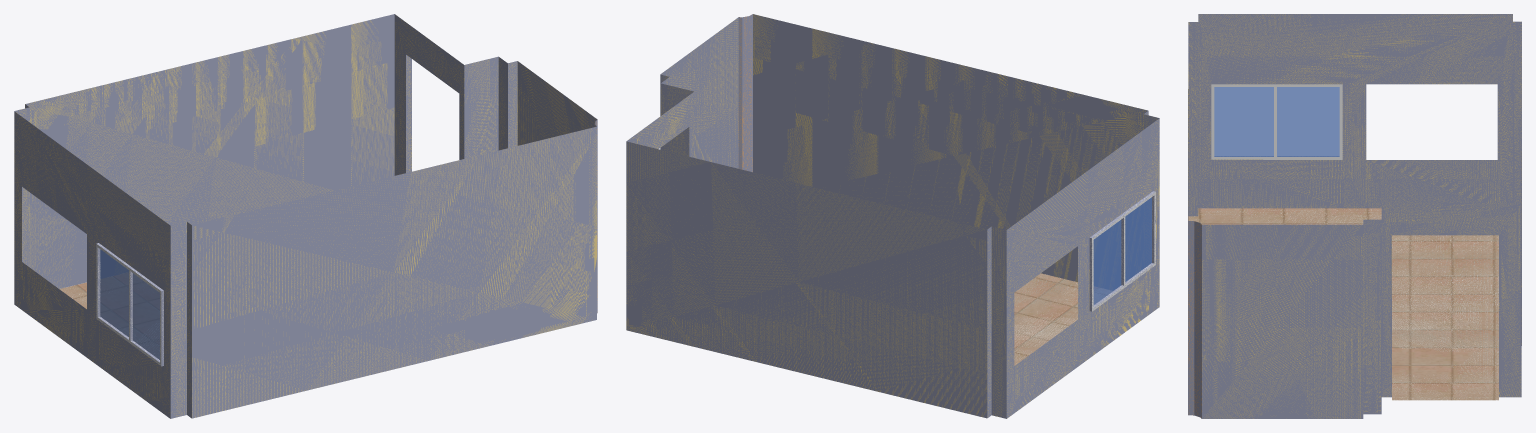
The model's file is DES042.obj.
3 views of the same model, side by side, from view 1: azimuth 30°, elevation 25°; view 2: azimuth 150°, elevation 25°; view 3: azimuth 270°, elevation 25° (orthographic). The views are drawn at different scales.
Parts seen in each view (by area): view 1: Mesh6 LAB042 Model, Mesh1 ventana2_1 LAB042 Model; view 2: Mesh6 LAB042 Model, Mesh1 ventana2_1 LAB042 Model; view 3: Mesh6 LAB042 Model, Mesh1 ventana2_1 LAB042 Model.
Boxes of the visible parts, x1=… form: Mesh6 LAB042 Model: x1=14, y1=14, x2=597, y2=418; Mesh1 ventana2_1 LAB042 Model: x1=96, y1=243, x2=163, y2=366; Mesh6 LAB042 Model: x1=626, y1=14, x2=1159, y2=418; Mesh1 ventana2_1 LAB042 Model: x1=1089, y1=191, x2=1155, y2=311; Mesh6 LAB042 Model: x1=1188, y1=14, x2=1521, y2=418; Mesh1 ventana2_1 LAB042 Model: x1=1211, y1=84, x2=1342, y2=159.
Size of the model in its own units: 8.41 by 3.6 by 5.6.
Materials: 9 (2 with a texture image).
